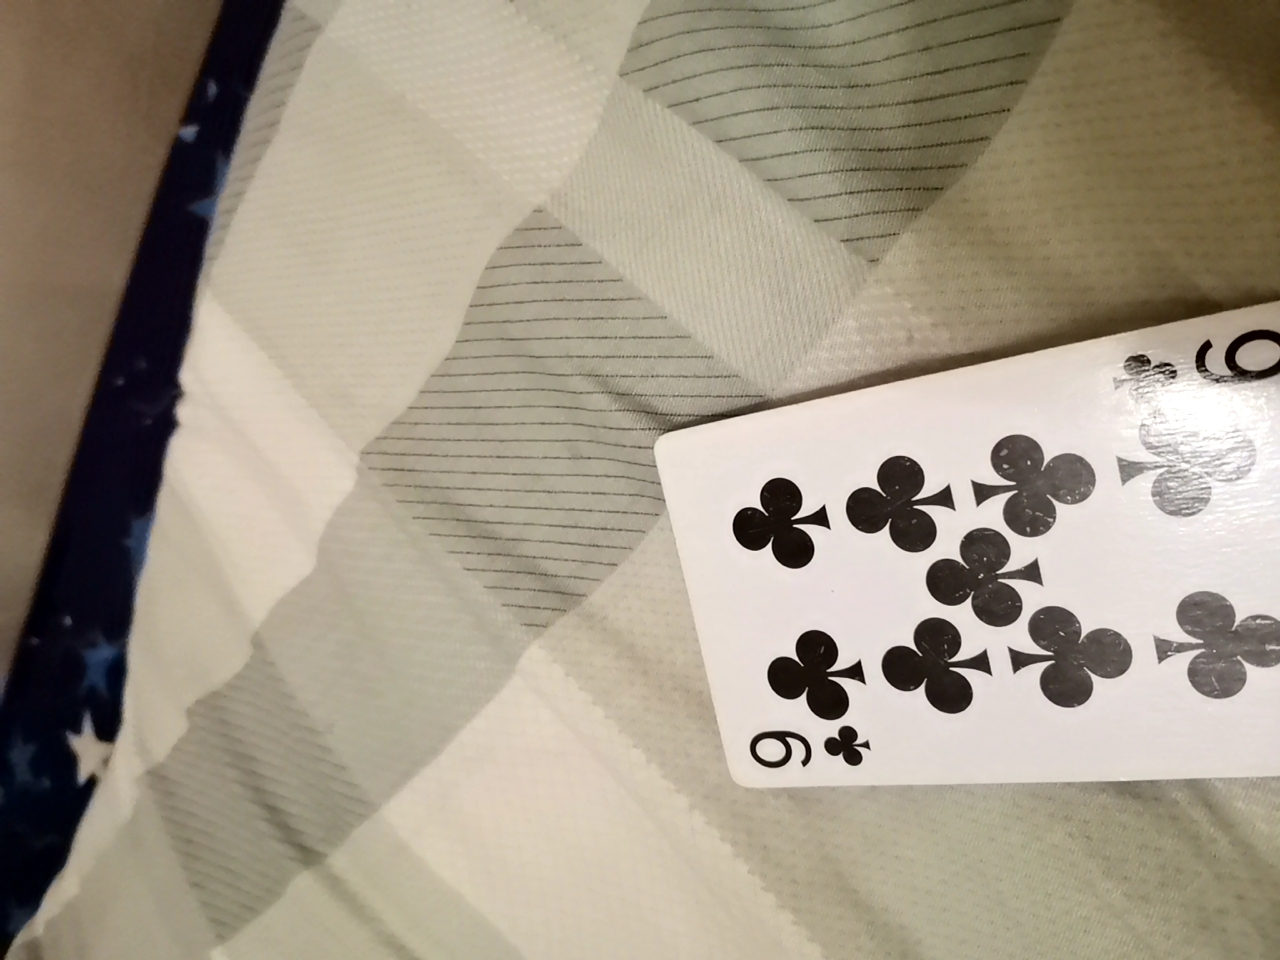mh 9: (643, 339, 1272, 800)
